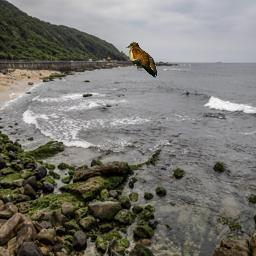Cuckoo: (126, 42, 157, 78)
